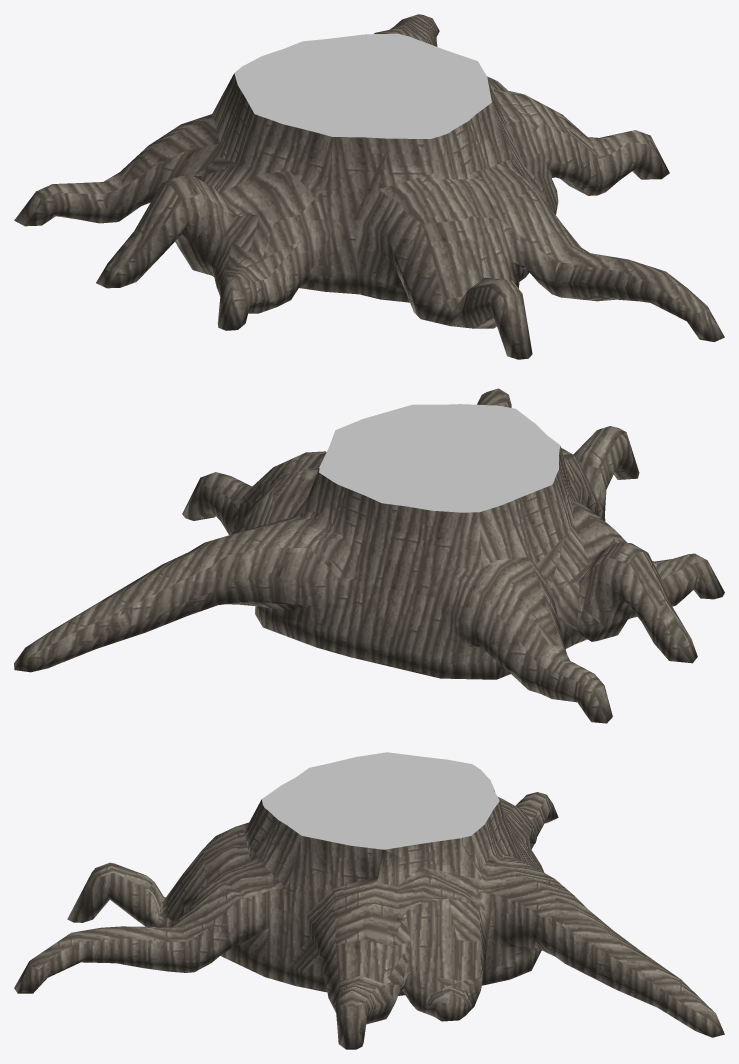
The model's file is environment_elm1_stump_v59.fbx.
3 views of the same model, one above another, from view 1: azimuth 30°, elevation 25°; view 2: azimuth 150°, elevation 25°; view 3: azimuth 270°, elevation 25° (orthographic). The views are drawn at different scales.
Parts seen in each view (by area): view 1: environment_elm1_stump_v59; view 2: environment_elm1_stump_v59; view 3: environment_elm1_stump_v59.
Part boxes in pixels (bbox=[...]): environment_elm1_stump_v59: bbox=[14, 14, 724, 359]; environment_elm1_stump_v59: bbox=[14, 388, 724, 723]; environment_elm1_stump_v59: bbox=[14, 752, 724, 1049].
Bounding box in the file's own units: 473 × 115 × 594.
